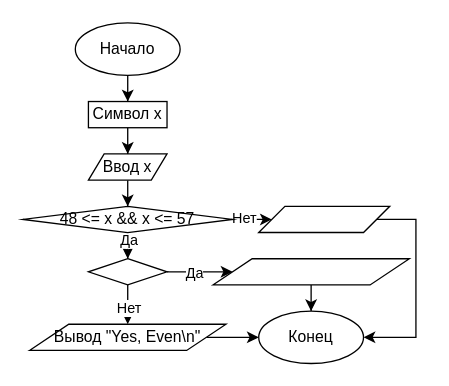
Some shapes in this 449 by 386 pixel diagram are drawn without their labels. The shapes that lost their labels are listed below. From the top down, each one's centre as x and y in pixels, then its label:
(323,219): Вывод "No\n"
(127,271): x % 2
(310,271): Вывод "Yes, Odd\n"
